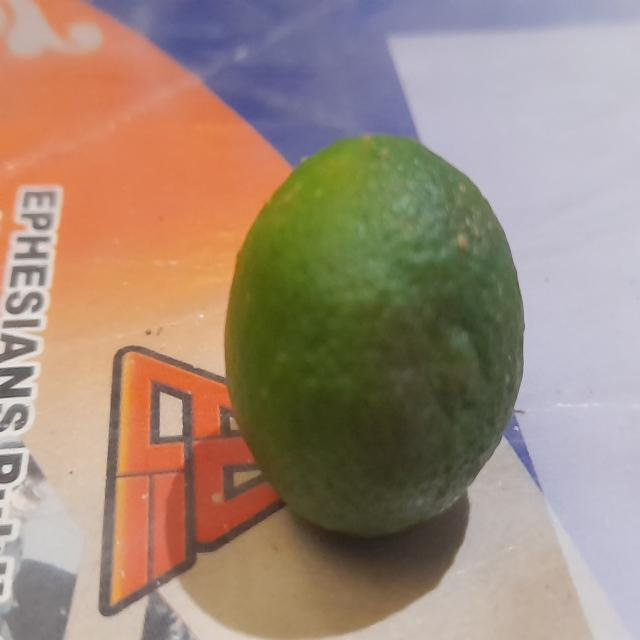heathy: (222, 124, 528, 542)
